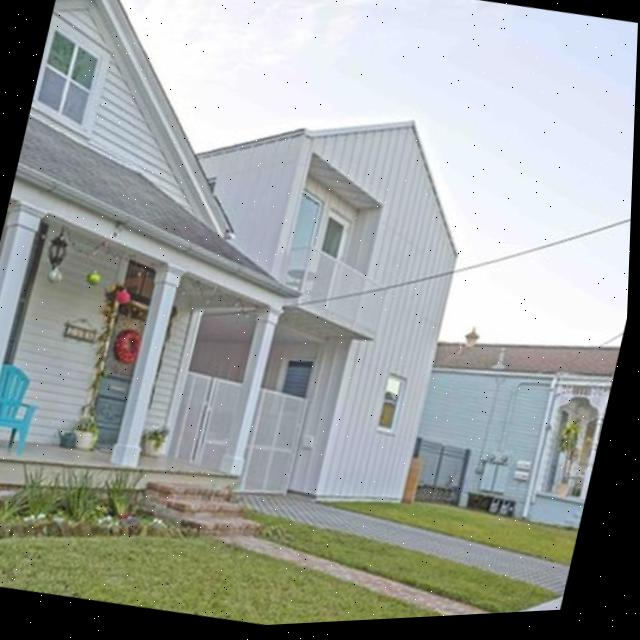building: (0, 0, 370, 524), (123, 75, 490, 523), (400, 312, 622, 540)
